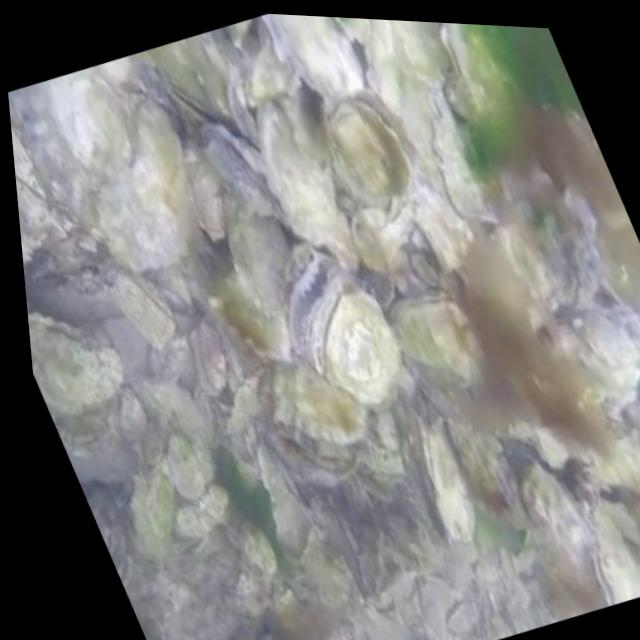Oyster-Closed: (430, 90, 507, 223), (390, 294, 471, 374), (203, 142, 281, 224), (591, 517, 640, 606), (564, 186, 599, 305), (588, 435, 640, 494), (227, 66, 261, 149), (192, 160, 224, 239), (441, 23, 471, 77), (272, 588, 298, 619), (336, 17, 367, 42), (99, 523, 114, 550)
Oyster-Indeterminate: (95, 97, 195, 270), (257, 94, 332, 243), (46, 65, 131, 182), (521, 463, 594, 590), (206, 268, 287, 358), (227, 192, 287, 311), (417, 416, 473, 537), (444, 408, 509, 510), (11, 125, 53, 249), (111, 268, 173, 347), (305, 526, 362, 611), (132, 451, 174, 560), (394, 20, 453, 87), (587, 305, 640, 367), (168, 436, 205, 498), (109, 384, 146, 436), (144, 335, 189, 375)
Oyster-Open: (284, 247, 399, 409), (273, 353, 367, 474), (325, 89, 423, 204), (28, 314, 123, 418), (261, 14, 361, 100), (167, 84, 256, 152)
